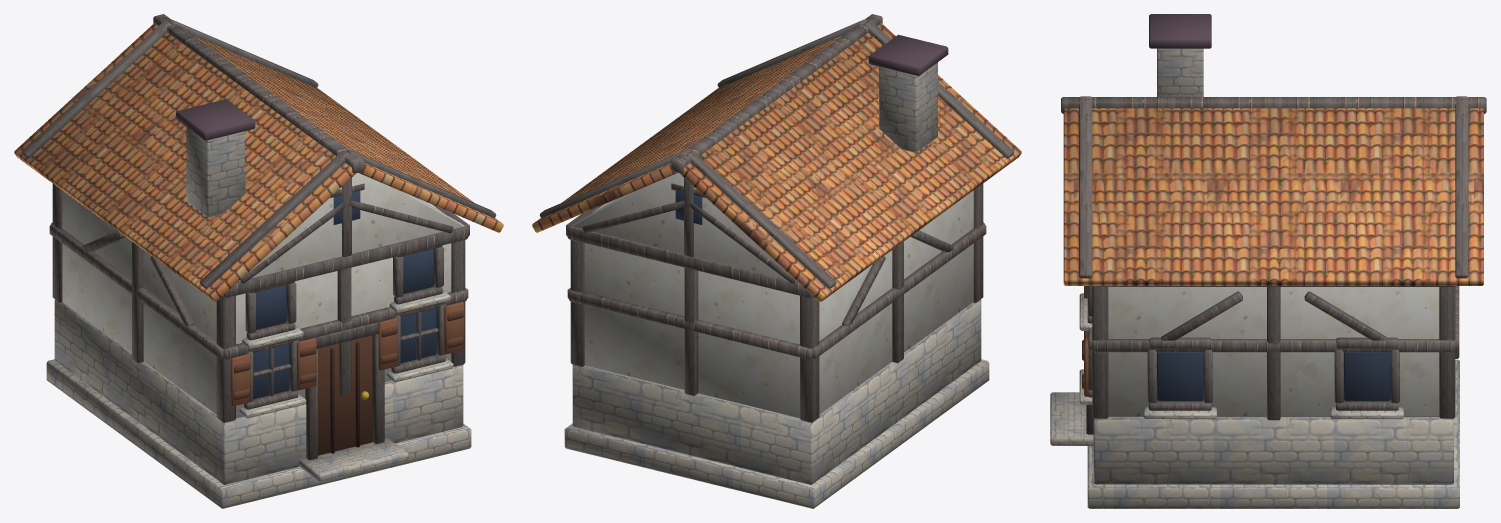
Rendered from house_b.gltf.
3 renders of one model, left to right at view 1: azimuth 30°, elevation 25°; view 2: azimuth 150°, elevation 25°; view 3: azimuth 270°, elevation 25°, orthographic. The views are drawn at different scales.
Visible parts, largest first — view 1: house_b; view 2: house_b; view 3: house_b.
Boxes of the visible parts, left/top/right/bottom form: house_b: left=14, top=14, right=503, bottom=508; house_b: left=532, top=14, right=1021, bottom=508; house_b: left=1050, top=14, right=1486, bottom=508.
Size of the model in its own units: 5.36 by 6.18 by 6.54.
5 materials, 5 textured.
